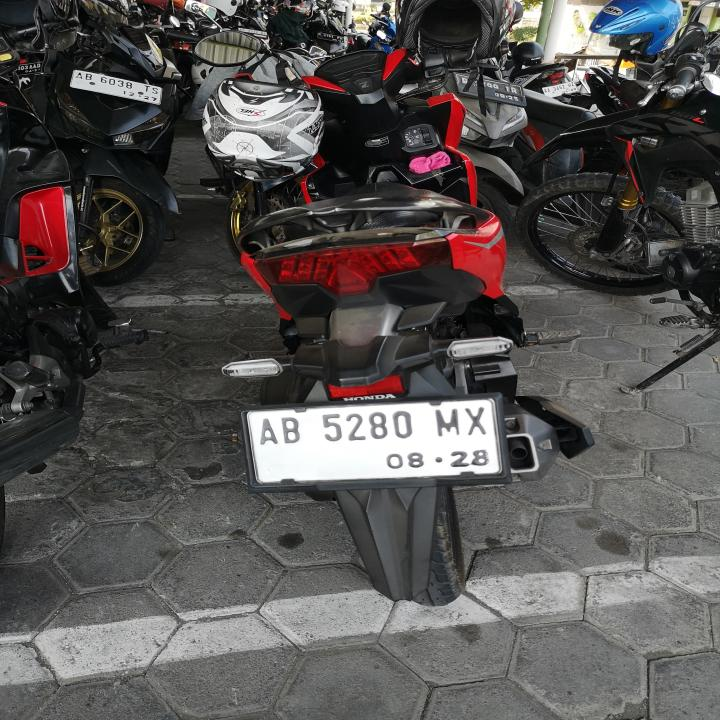plate: (243, 396, 502, 487), (68, 68, 164, 107), (452, 71, 527, 107)
